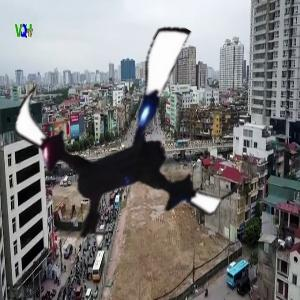drone: (8, 16, 255, 263)
